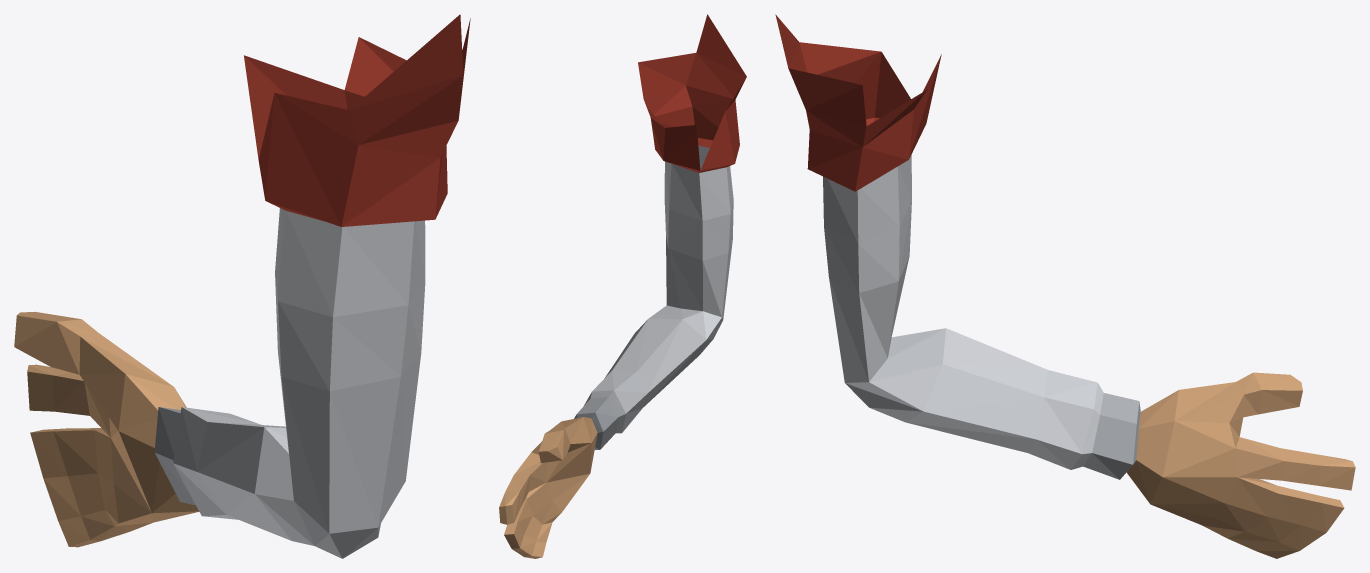
Rendered from Daughter_01_ArmR_72_03_B.obj.
3 renders of one model, left to right at view 1: azimuth 30°, elevation 25°; view 2: azimuth 150°, elevation 25°; view 3: azimuth 270°, elevation 25°, orthographic. The views are drawn at different scales.
Visible parts, largest first — view 1: Daughter_01_ArmR_72_03_B; view 2: Daughter_01_ArmR_72_03_B; view 3: Daughter_01_ArmR_72_03_B.
Boxes of the visible parts, left/top/right/bottom form: Daughter_01_ArmR_72_03_B: left=14, top=14, right=470, bottom=558; Daughter_01_ArmR_72_03_B: left=499, top=14, right=746, bottom=558; Daughter_01_ArmR_72_03_B: left=775, top=14, right=1355, bottom=558.
Bounding box in the file's own units: 0.1622 × 0.6208 × 0.5901.
Materials: 1 (1 with a texture image).
